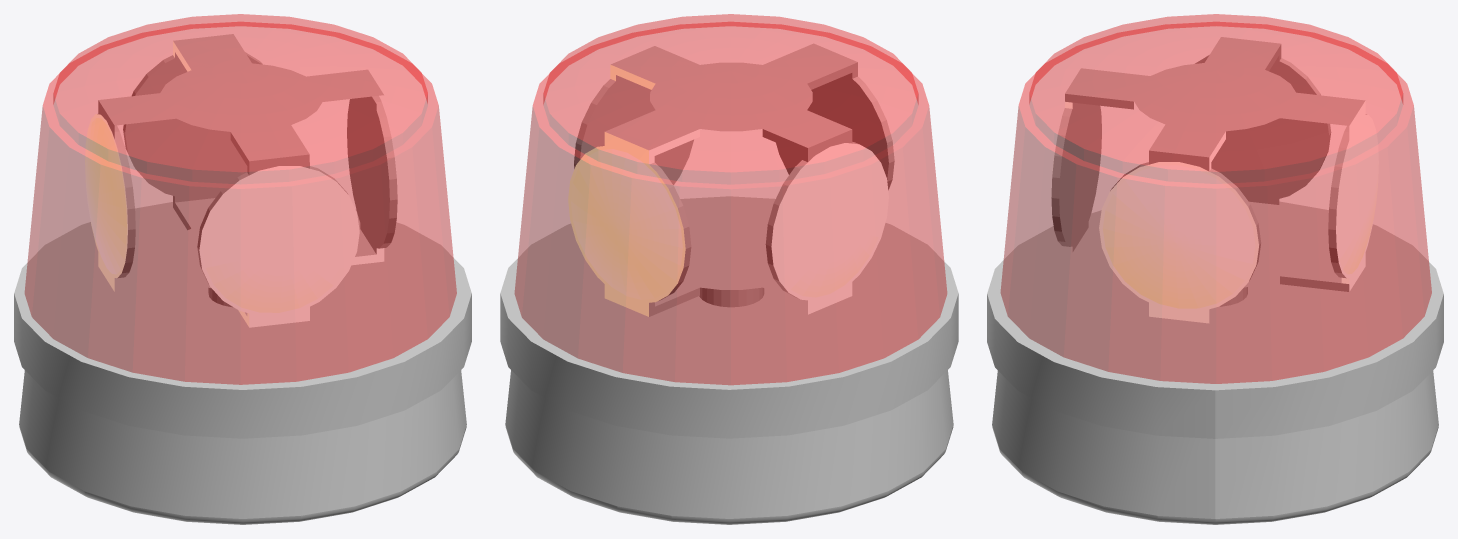
The model's file is pic_78.gltf.
3 renders of one model, left to right at view 1: azimuth 30°, elevation 25°; view 2: azimuth 150°, elevation 25°; view 3: azimuth 270°, elevation 25°, orthographic.
Visible parts, largest first — view 1: Mesh2-M_0020_Red, 圆柱体, 圆柱体.1, Mesh1-M_0131_Silver, Mesh1-FrontColor; view 2: Mesh2-M_0020_Red, 圆柱体, 圆柱体.1, Mesh1-M_0131_Silver, Mesh1-FrontColor; view 3: Mesh2-M_0020_Red, 圆柱体, 圆柱体.1, Mesh1-M_0131_Silver, Mesh1-FrontColor.
Boxes of the visible parts, x1,y1,x2,y2 form: Mesh2-M_0020_Red: [25, 14, 456, 384]; 圆柱体: [14, 202, 471, 438]; 圆柱体.1: [19, 370, 466, 524]; Mesh1-M_0131_Silver: [97, 34, 397, 315]; Mesh1-FrontColor: [85, 41, 396, 327]; Mesh2-M_0020_Red: [514, 14, 946, 384]; 圆柱体: [500, 196, 958, 438]; 圆柱体.1: [505, 370, 953, 524]; Mesh1-M_0131_Silver: [574, 43, 894, 316]; Mesh1-FrontColor: [568, 65, 888, 316]; Mesh2-M_0020_Red: [1000, 14, 1431, 383]; 圆柱体: [987, 201, 1443, 438]; 圆柱体.1: [992, 370, 1438, 524]; Mesh1-M_0131_Silver: [1051, 37, 1366, 311]; Mesh1-FrontColor: [1052, 101, 1378, 323].
Size of the model in its own units: 10216 by 8930 by 10216.
